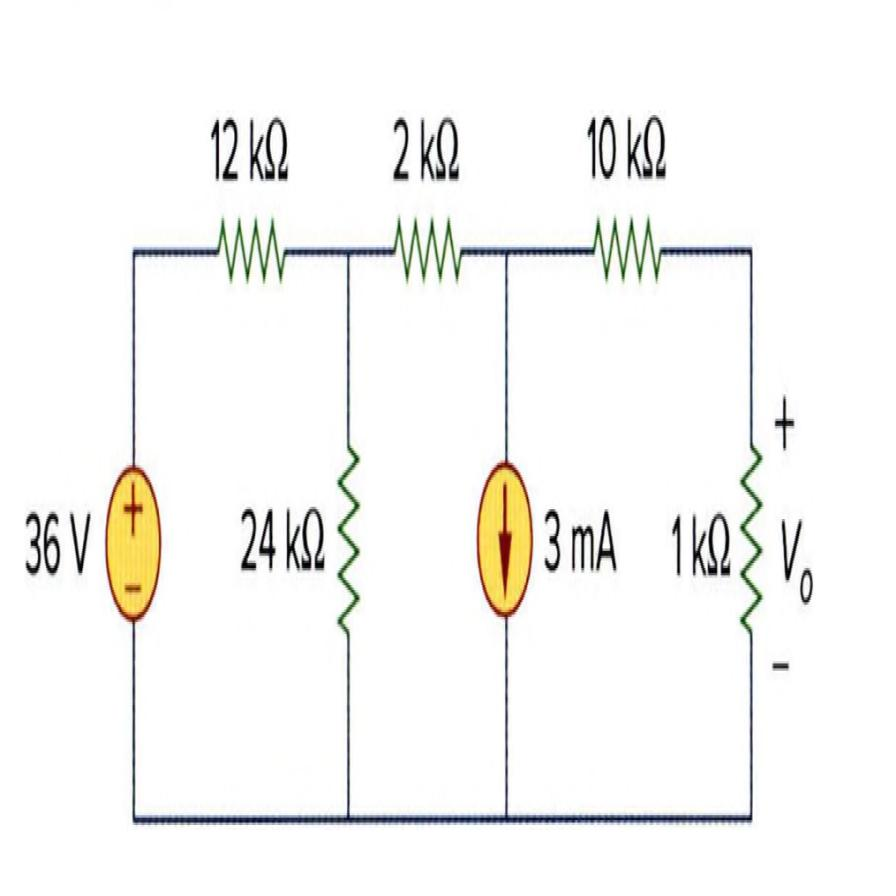I3: (468, 423, 540, 646)
R1: (198, 194, 298, 308), (580, 184, 670, 308), (378, 199, 468, 313)
R2: (326, 413, 370, 653), (728, 413, 767, 650)
V1: (98, 447, 168, 639)
